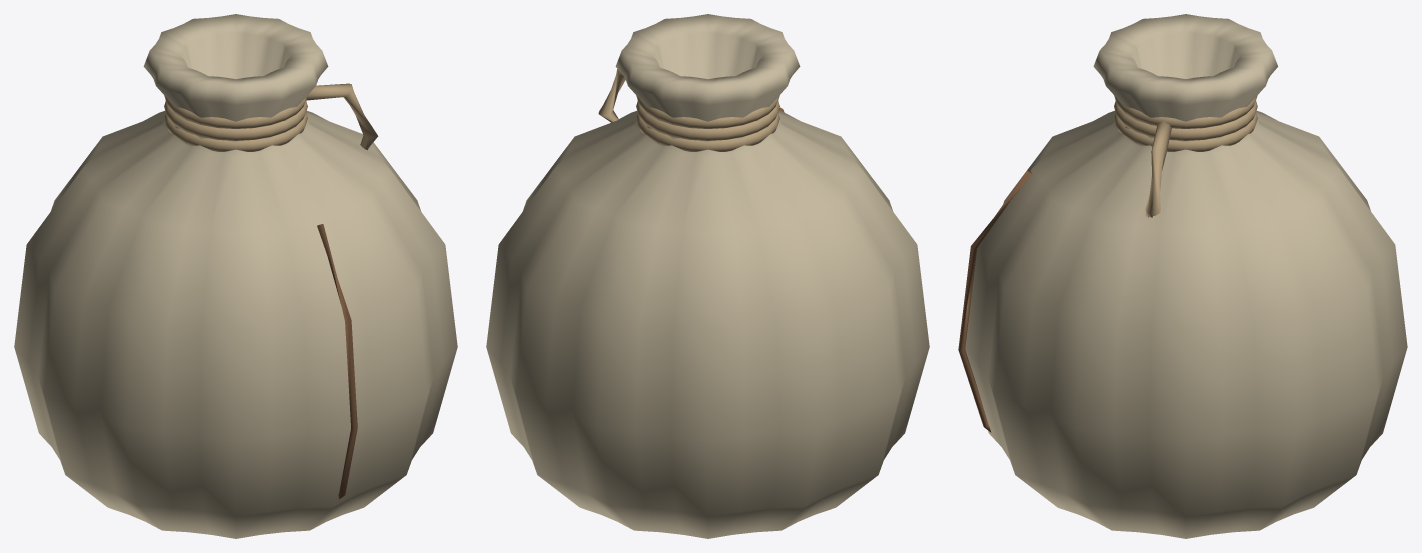
File: tied-sack.glb
The picture shows the model from 3 angles, left to right: view 1: azimuth 30°, elevation 25°; view 2: azimuth 150°, elevation 25°; view 3: azimuth 270°, elevation 25°; orthographic projection.
Visible parts, largest first — view 1: tied-sack__Visual_matte; view 2: tied-sack__Visual_matte; view 3: tied-sack__Visual_matte.
Boxes of the visible parts, box(x1,y1,x2,y2) form: tied-sack__Visual_matte: box(14, 14, 457, 538); tied-sack__Visual_matte: box(486, 14, 929, 538); tied-sack__Visual_matte: box(958, 14, 1407, 538).
Bounding box in the file's own units: 0.7452 × 0.79 × 0.7549.
